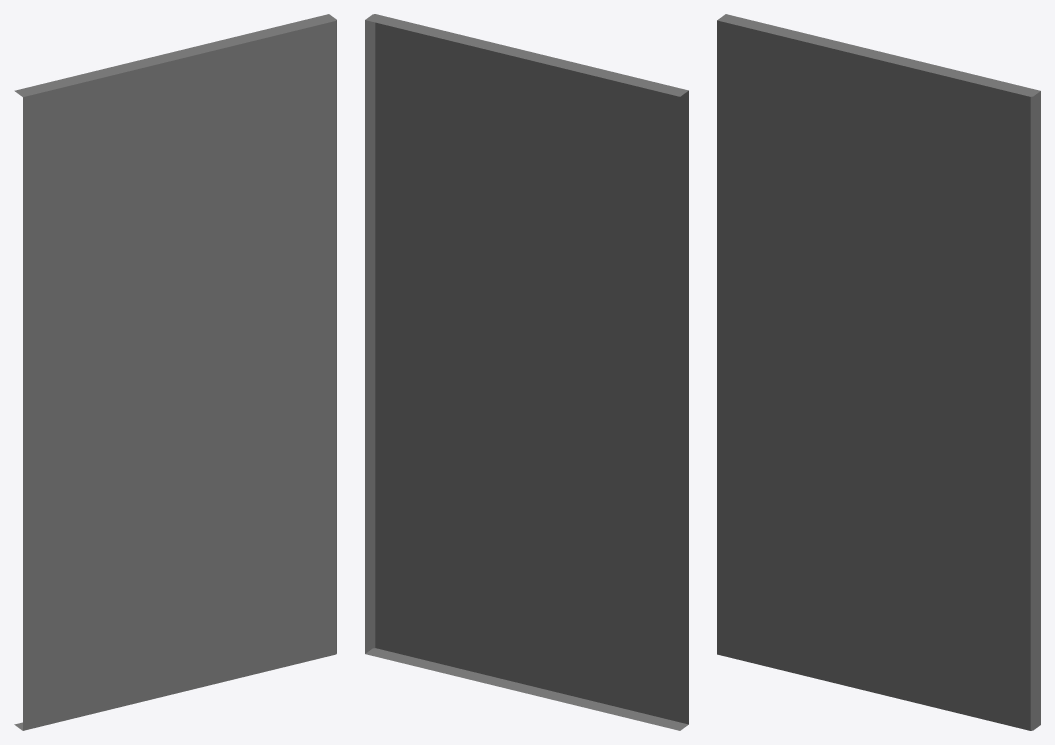
Rendered from q-scifi-mod-door-metal.glb.
3 views of the same model, side by side, from view 1: azimuth 30°, elevation 25°; view 2: azimuth 150°, elevation 25°; view 3: azimuth 330°, elevation 25° (orthographic).
Parts seen in each view (by area): view 1: Door_Metal; view 2: Door_Metal; view 3: Door_Metal.
Part boxes in pixels (bbox=[...]): Door_Metal: bbox=[14, 14, 336, 730]; Door_Metal: bbox=[365, 14, 688, 730]; Door_Metal: bbox=[717, 14, 1040, 730].
Bounding box in the file's own units: 2.11 × 4.05 × 0.1016.
2 materials, 2 textured.
